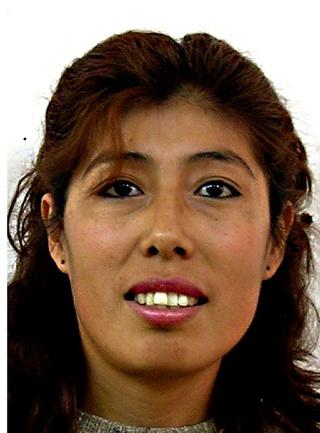No Mask: (22, 67, 310, 397)
